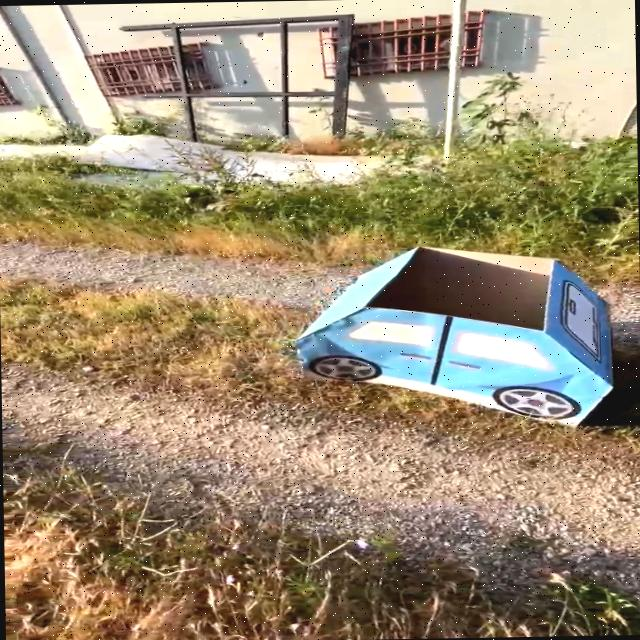blue_car: (253, 240, 640, 447)
